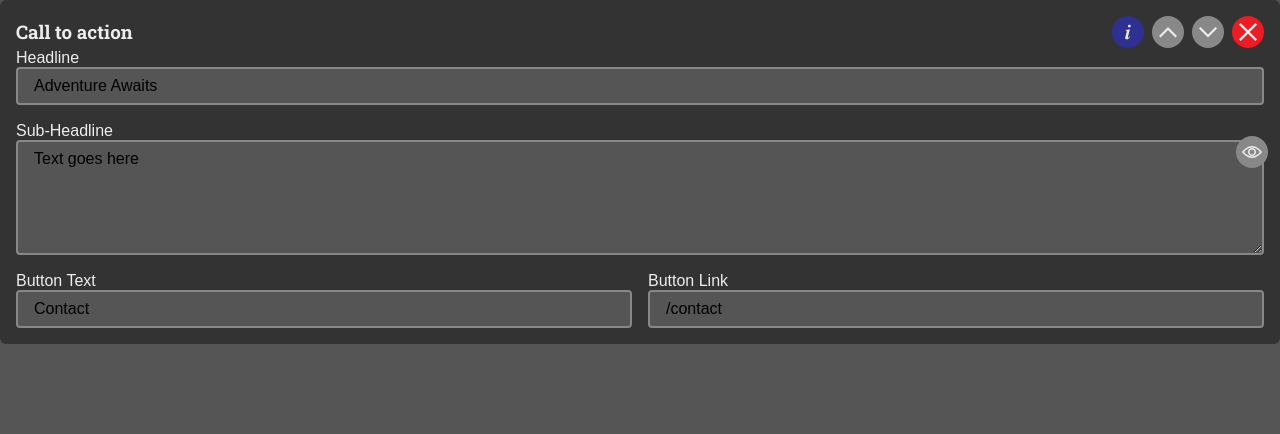
Test: InputPageBlockItem › toggles info
This screenshot has width=1280, height=434.
Click the button with test id "block-btn-info".
click(1128, 32)  # box [1112,16,1144,48]
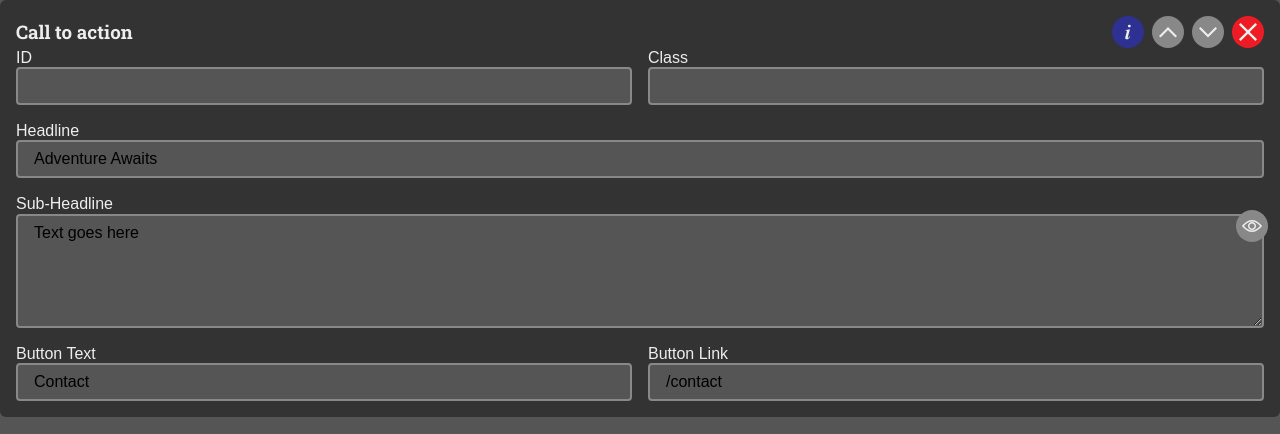
Expected: the element with test id "page-block-info" is shown, [16,48,632,105]
